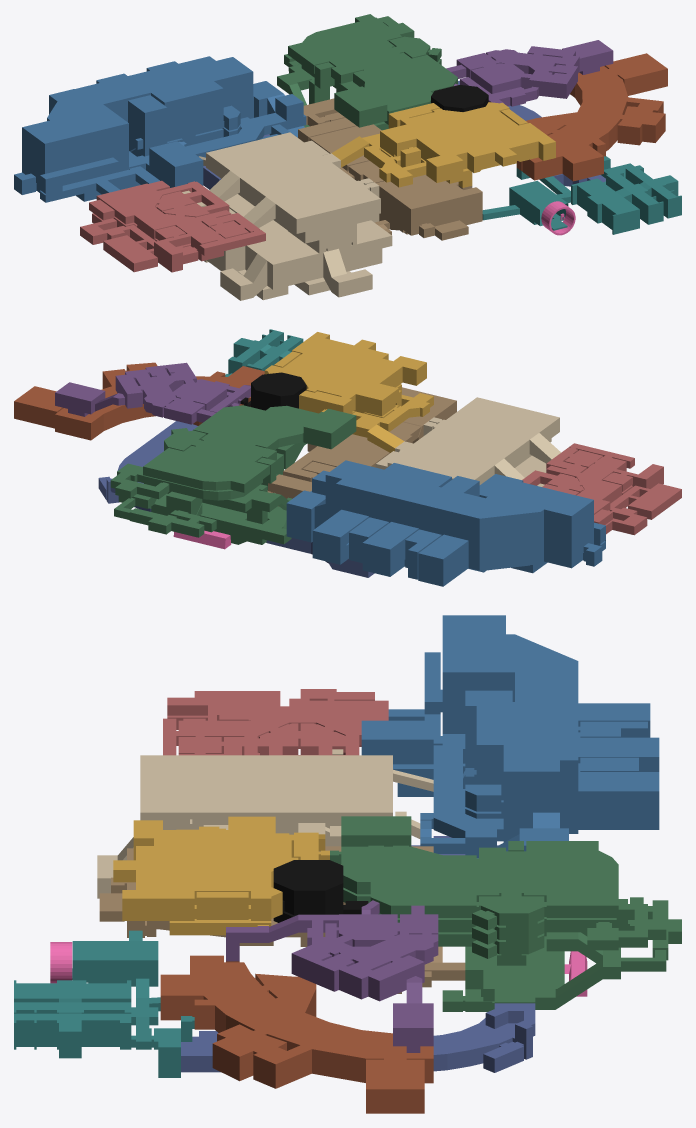
File: stella-3d-reference.glb
3 views of the same model, one above another, from view 1: azimuth 30°, elevation 25°; view 2: azimuth 150°, elevation 25°; view 3: azimuth 270°, elevation 25° (orthographic). The views are drawn at different scales.
Parts seen in each view (by area): view 1: assembly, loading bay, lobby, atrium, medical, archives, sandbox, seed vault, business center, communications, metro, seed vault extract; view 2: assembly, lobby, atrium, loading bay, medical, business center, archives, sandbox, metro, seed vault, communications, lobby metro extract; view 3: assembly, lobby, archives, loading bay, atrium, seed vault, business center, medical, metro, communications, sandbox, seed vault extract.
Part boxes in pixels (x1,y1,x2,y2): assembly: [14, 56, 306, 202]; loading bay: [182, 132, 392, 300]; lobby: [277, 14, 457, 130]; atrium: [331, 102, 555, 187]; medical: [80, 180, 265, 272]; archives: [516, 53, 667, 181]; sandbox: [298, 98, 482, 240]; seed vault: [482, 156, 681, 234]; business center: [446, 40, 613, 106]; communications: [431, 85, 488, 111]; metro: [203, 80, 605, 189]; seed vault extract: [541, 201, 575, 235]; assembly: [286, 460, 605, 586]; lobby: [110, 405, 356, 544]; atrium: [264, 332, 433, 452]; loading bay: [375, 397, 560, 486]; medical: [522, 443, 681, 535]; business center: [55, 362, 250, 424]; archives: [14, 362, 264, 440]; sandbox: [267, 387, 456, 506]; metro: [98, 421, 374, 577]; seed vault: [225, 329, 303, 376]; communications: [240, 372, 306, 410]; lobby metro extract: [173, 530, 231, 549]; assembly: [361, 615, 659, 858]; lobby: [330, 816, 681, 1011]; archives: [160, 955, 433, 1113]; loading bay: [97, 749, 433, 898]; atrium: [113, 816, 329, 935]; seed vault: [14, 930, 194, 1077]; business center: [226, 900, 438, 1052]; medical: [163, 689, 388, 755]; metro: [181, 836, 535, 1072]; communications: [273, 860, 368, 922]; sandbox: [99, 846, 465, 993]; seed vault extract: [50, 942, 72, 983].
Size of the model in its own units: 109 by 19.25 by 74.
